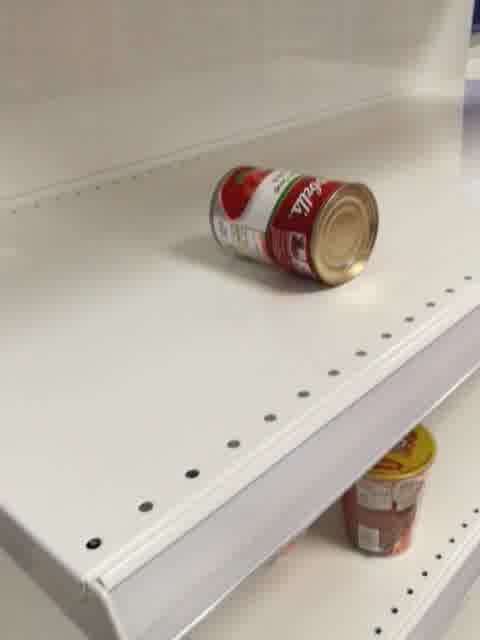tomatosoup: (204, 163, 378, 290)
